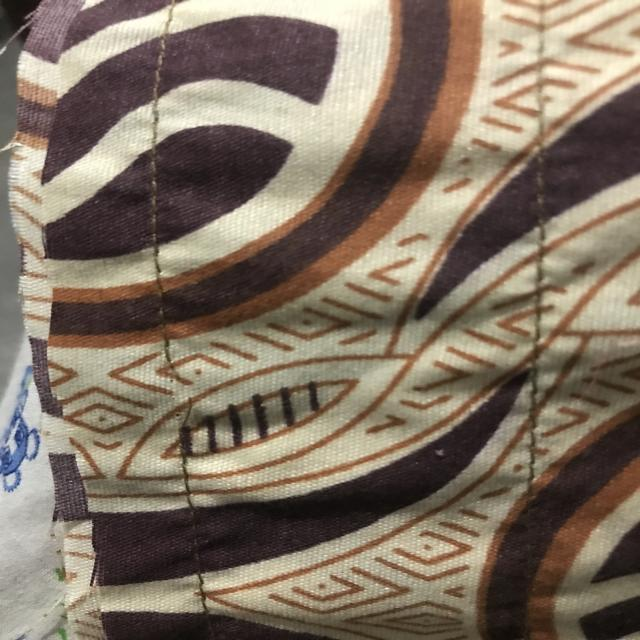broken: (150, 342, 217, 442)
good: (136, 167, 170, 285), (179, 464, 206, 512)
